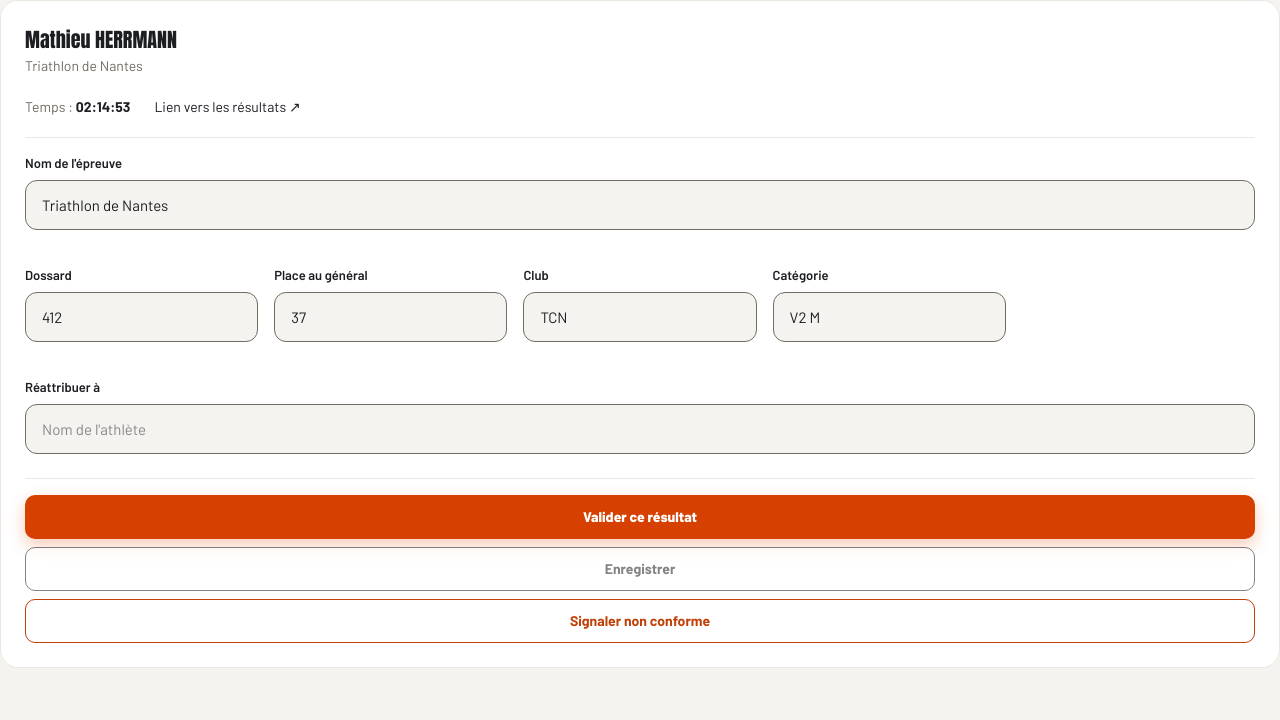
Scenario: ParticipationPanel — erreurs › nomme l'étape en échec dans une zone d'erreur unique
Type "3" into the field labelled "Dossard".
click(142, 317); type("3")  # box [42,306,241,328]
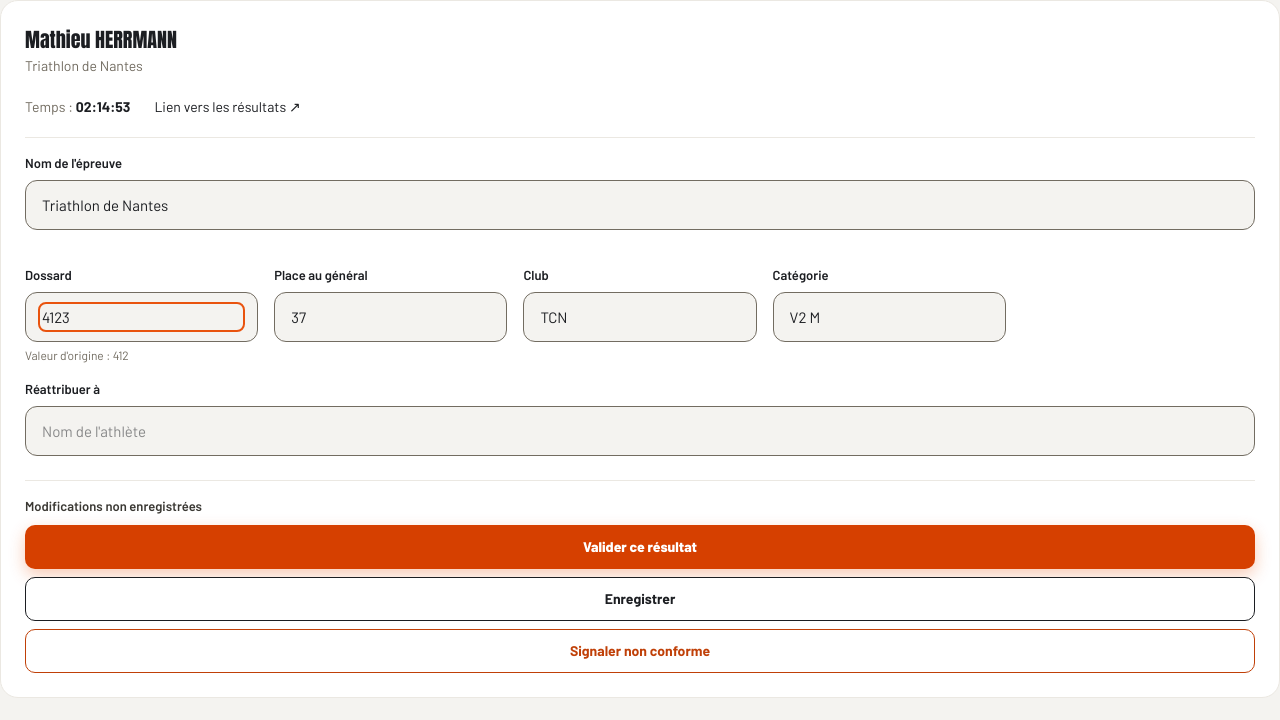
Click the button "Enregistrer".
click(640, 598)  # box [25,576,1255,620]
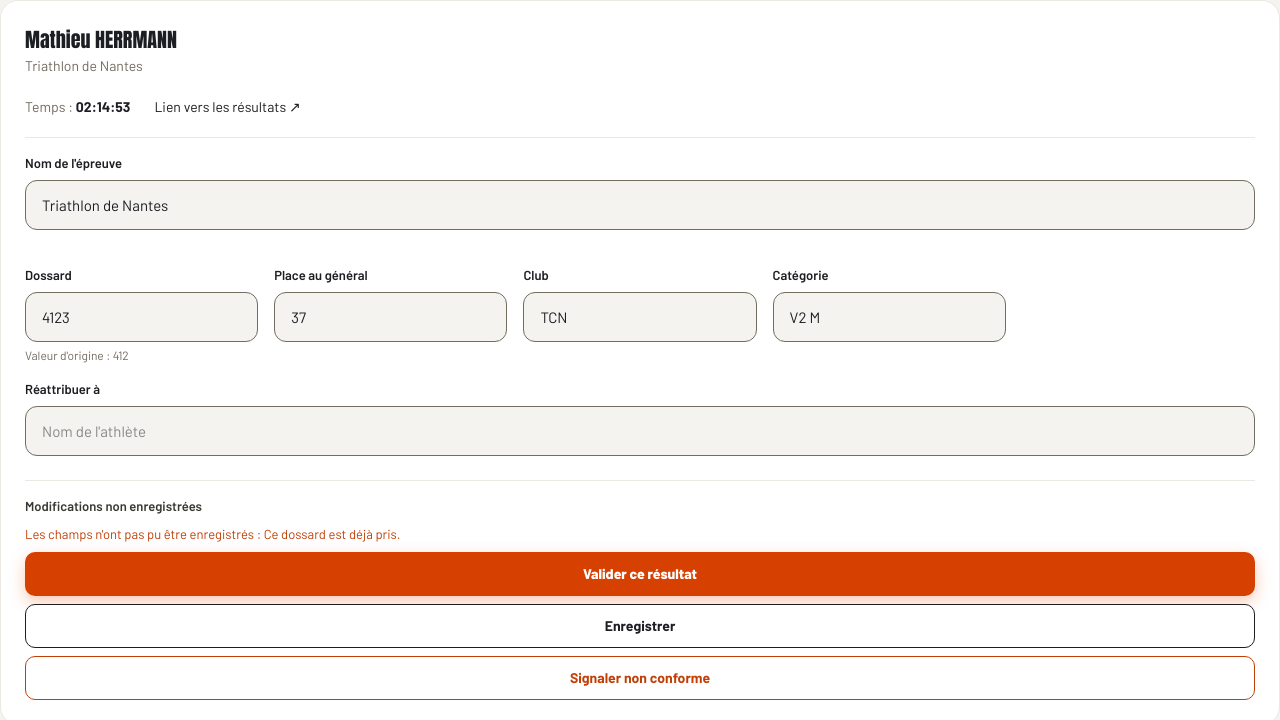
Check: the message reads "Les champs n'ont pas pu être enregistrés : Ce dossard est déjà pris.", box [25,526,400,542]
Check: the number of messages is 1, box [25,526,400,542]
